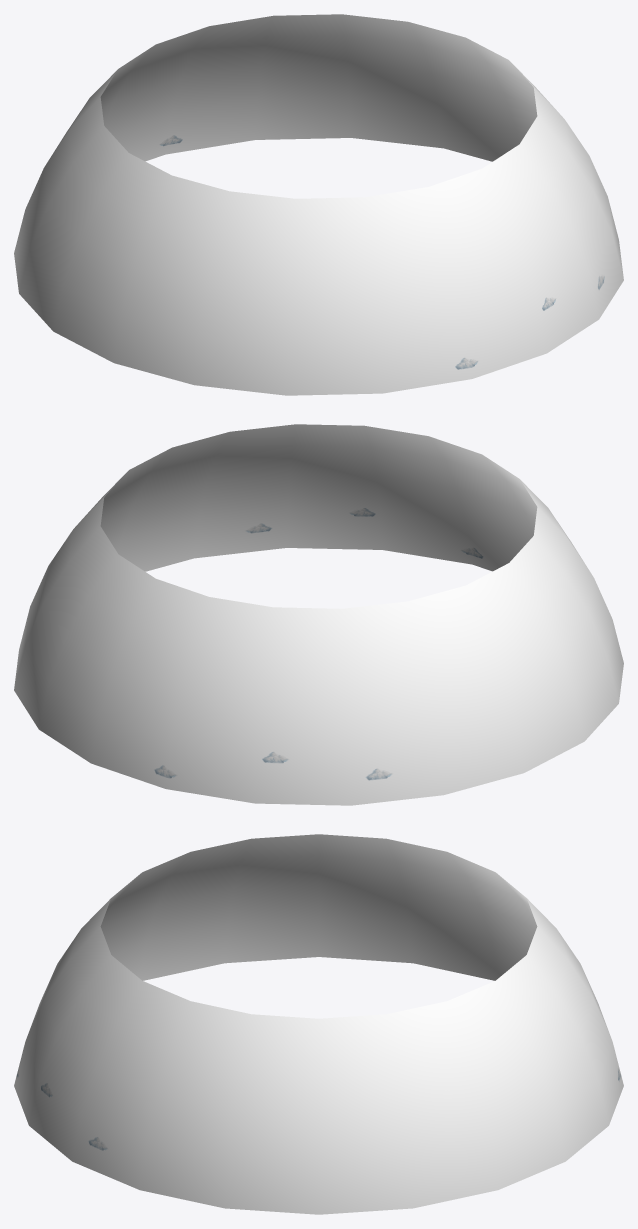
File: Cloud noon - 01.fbx
The picture shows the model from 3 angles, top to bottom: view 1: azimuth 30°, elevation 25°; view 2: azimuth 150°, elevation 25°; view 3: azimuth 270°, elevation 25°; orthographic projection.
Parts seen in each view (by area): view 1: cloud; view 2: cloud; view 3: cloud.
Part boxes in pixels (x1,y1,x2,y2): cloud: (14,14,623,395); cloud: (14,424,623,805); cloud: (14,834,623,1214).
Size of the model in its own units: 820 by 236 by 820.
